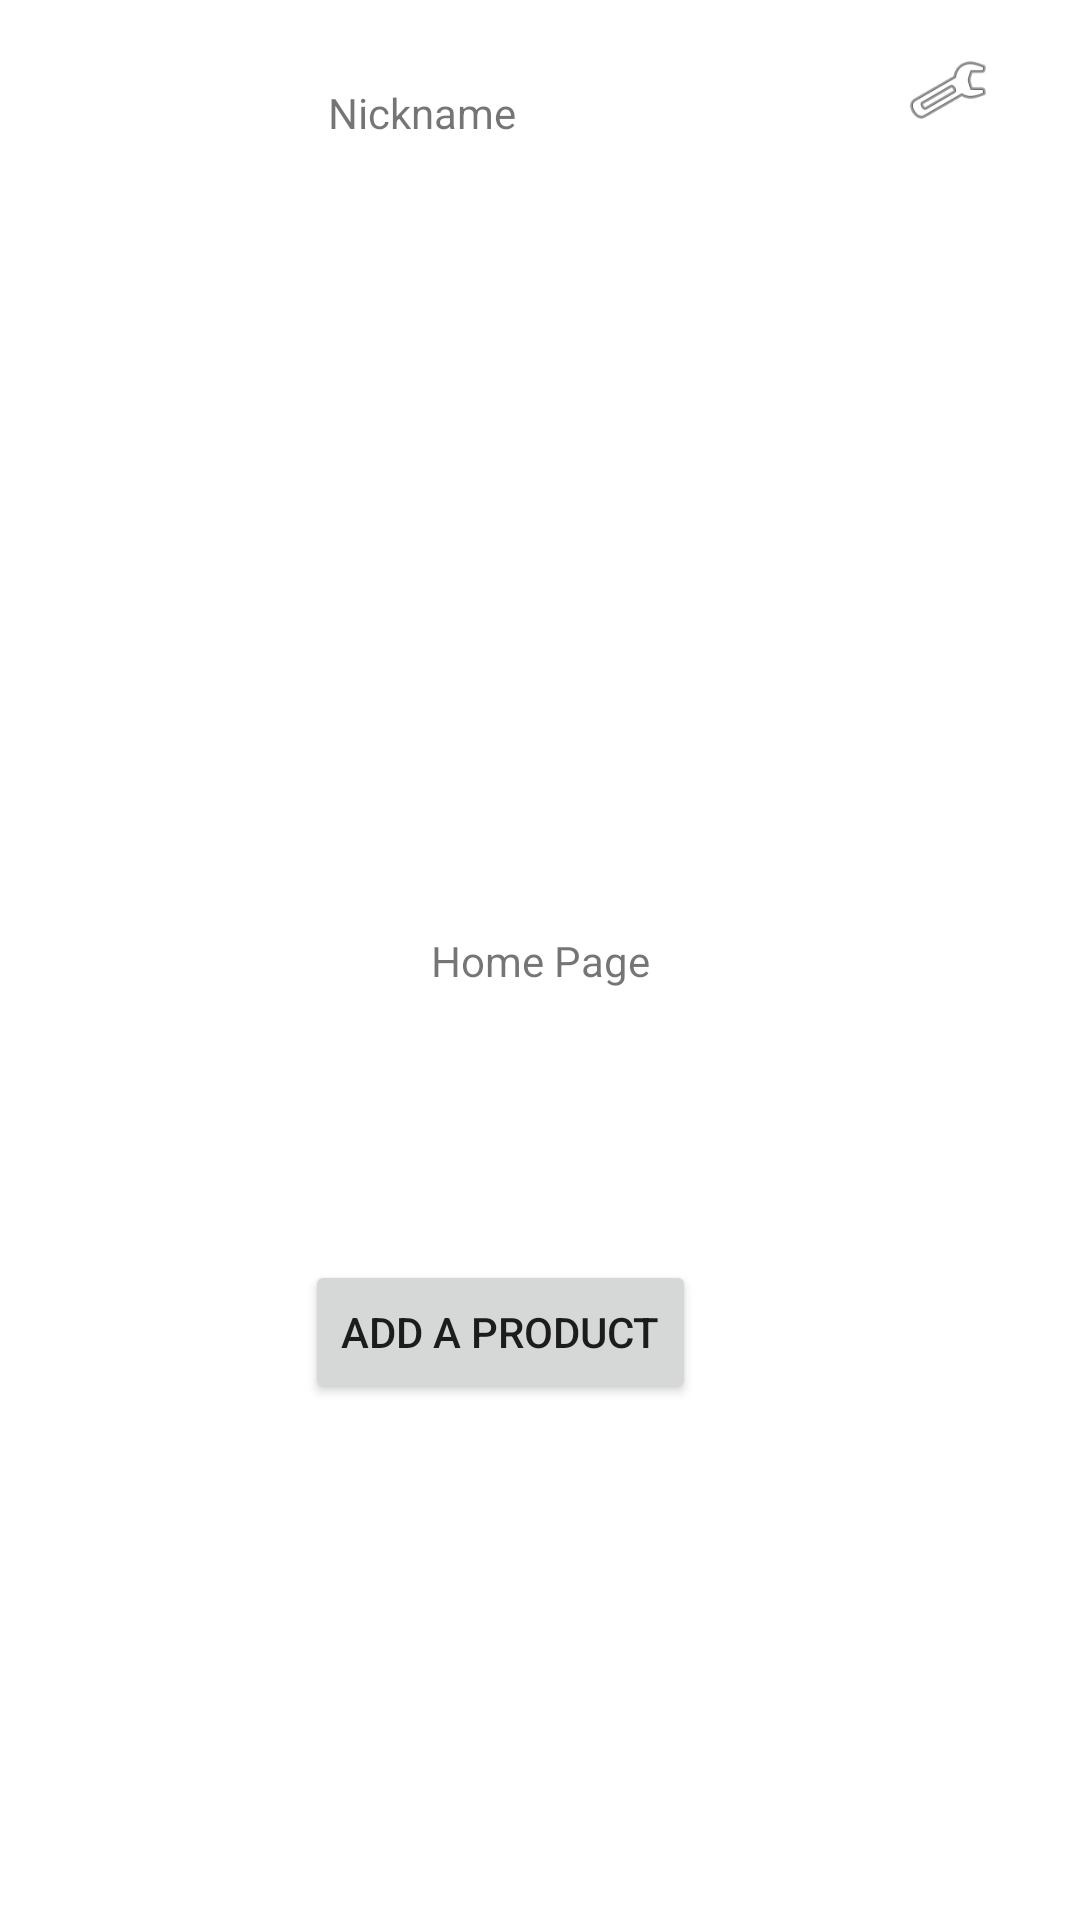

Screen size 1080 × 1920. Icon name, then its center in pixels as point (x, y):
manage: point (948, 90)
